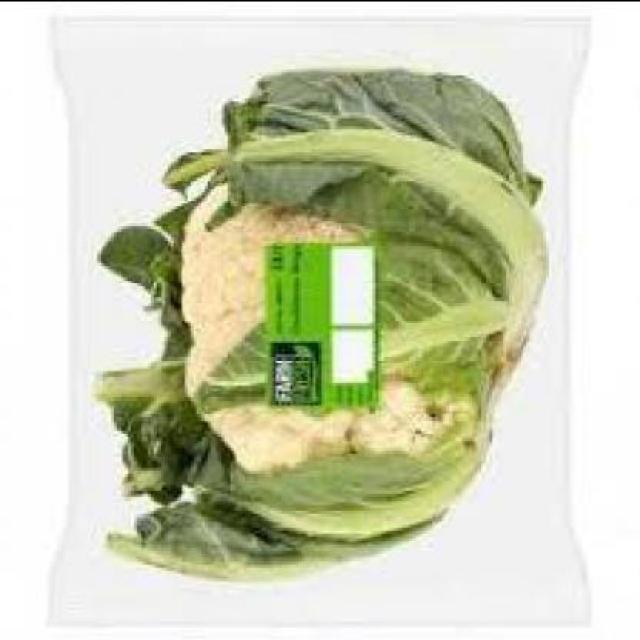BIODEGRADABLE: (85, 68, 544, 578)
